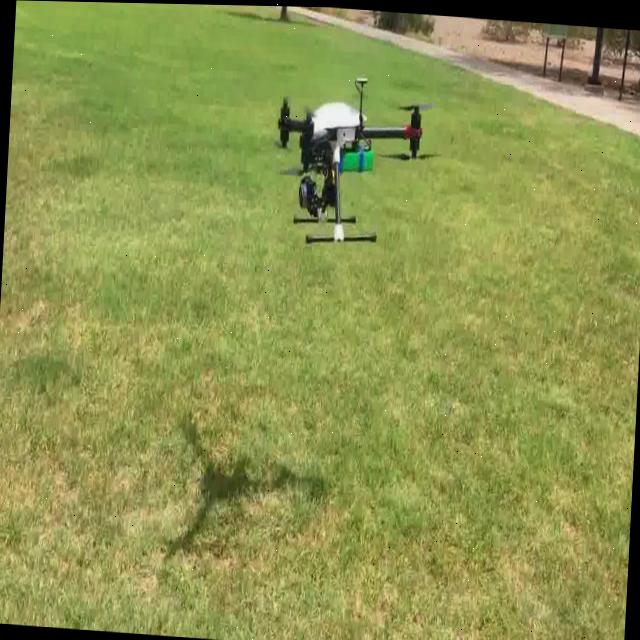drone: (0, 457, 631, 640)
